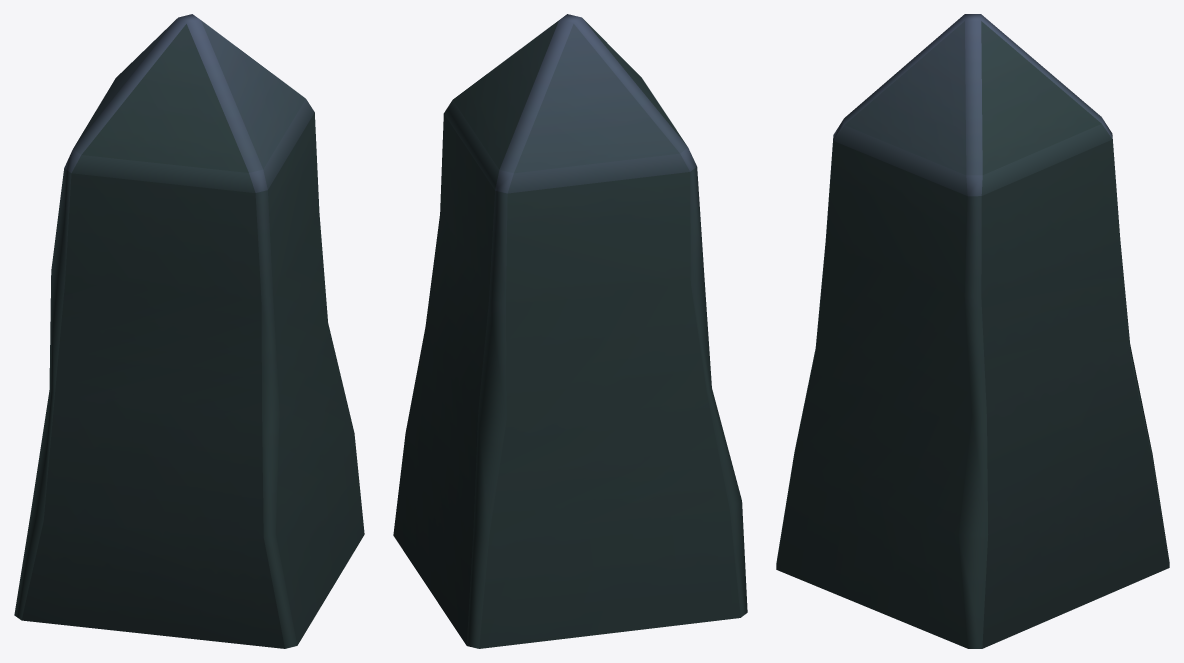
File: undead_obelisk.fbx
3 renders of one model, left to right at view 1: azimuth 30°, elevation 25°; view 2: azimuth 150°, elevation 25°; view 3: azimuth 270°, elevation 25°, orthographic.
Visible parts, largest first — view 1: undead_obelisk; view 2: undead_obelisk; view 3: undead_obelisk.
Boxes of the visible parts, x1=… form: undead_obelisk: x1=14, y1=14, x2=364, y2=648; undead_obelisk: x1=393, y1=14, x2=747, y2=648; undead_obelisk: x1=776, y1=14, x2=1169, y2=648.
Bounding box in the file's own units: 1.61 × 2.48 × 1.61.
